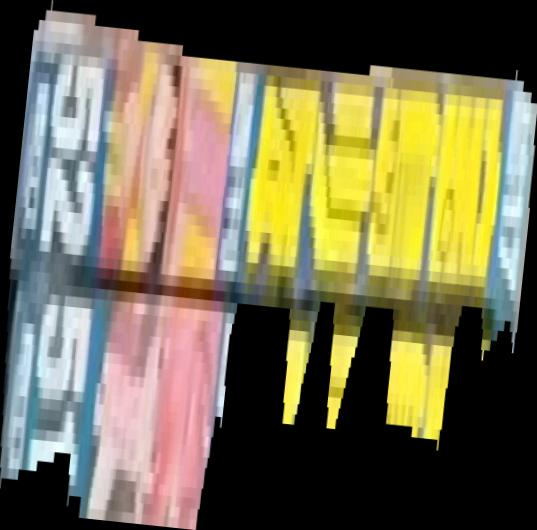flat: (1, 1, 537, 530)
